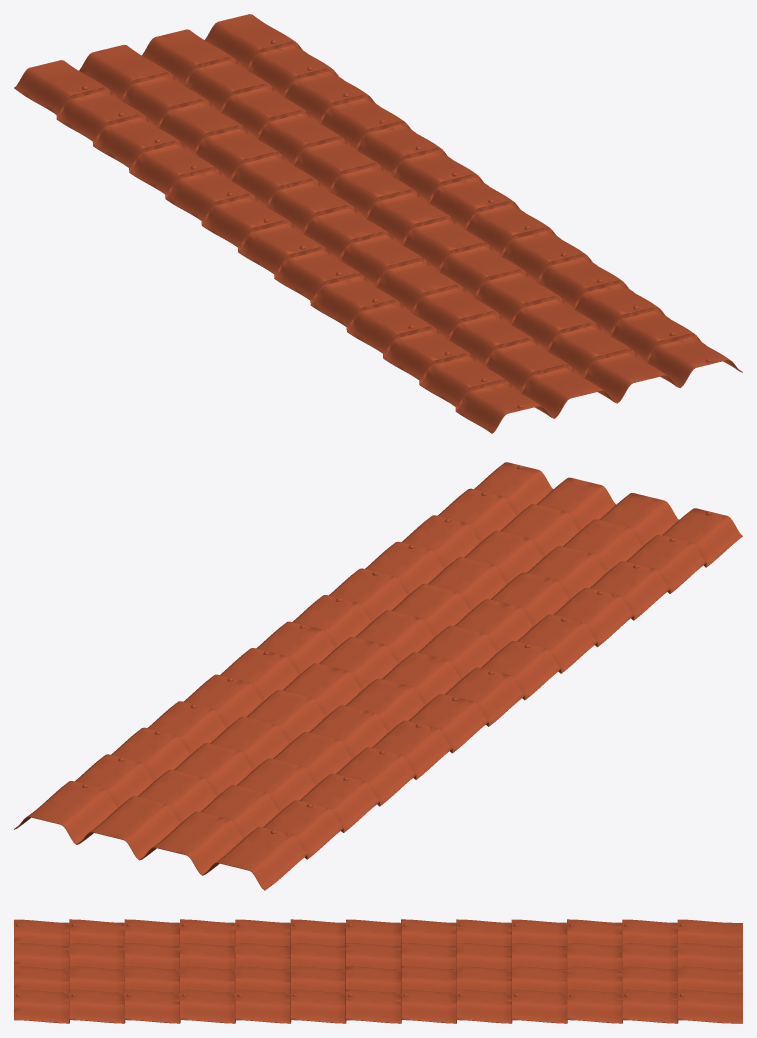
File: lamina_pvc.glb
The picture shows the model from 3 angles, top to bottom: view 1: azimuth 30°, elevation 25°; view 2: azimuth 150°, elevation 25°; view 3: azimuth 270°, elevation 25°; orthographic projection. The views are drawn at different scales.
Visible parts, largest first — view 1: lamina; view 2: lamina; view 3: lamina.
Boxes of the visible parts, x1,y1,x2,y2 form: lamina: [14, 14, 742, 433]; lamina: [14, 462, 742, 890]; lamina: [14, 919, 742, 1023].
Bounding box in the file's own units: 0.8791 × 0.0804 × 2.9.
Materials: 1 (1 with a texture image).
